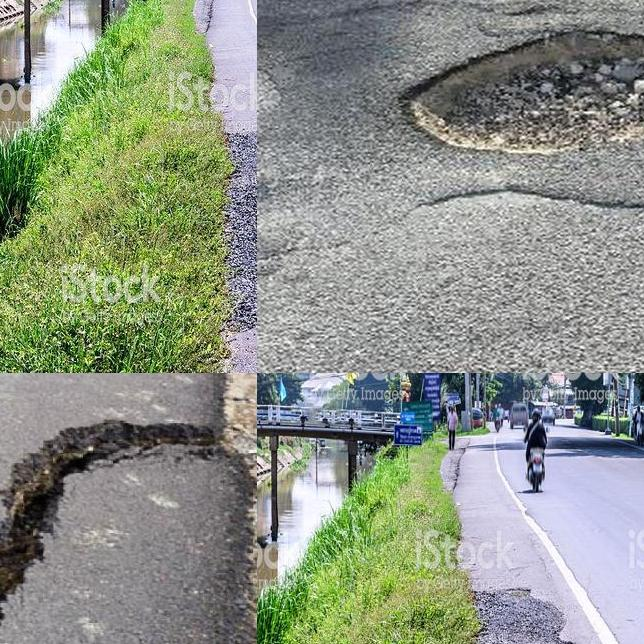Lubang: (405, 28, 644, 153)
Pinggir: (0, 415, 257, 644), (191, 98, 257, 373), (454, 563, 582, 644)
